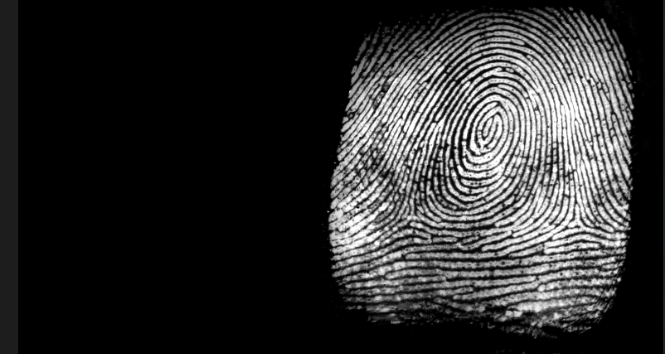deltas: (388, 185, 436, 239), (554, 194, 602, 242)
nucleo: (468, 100, 512, 161)
